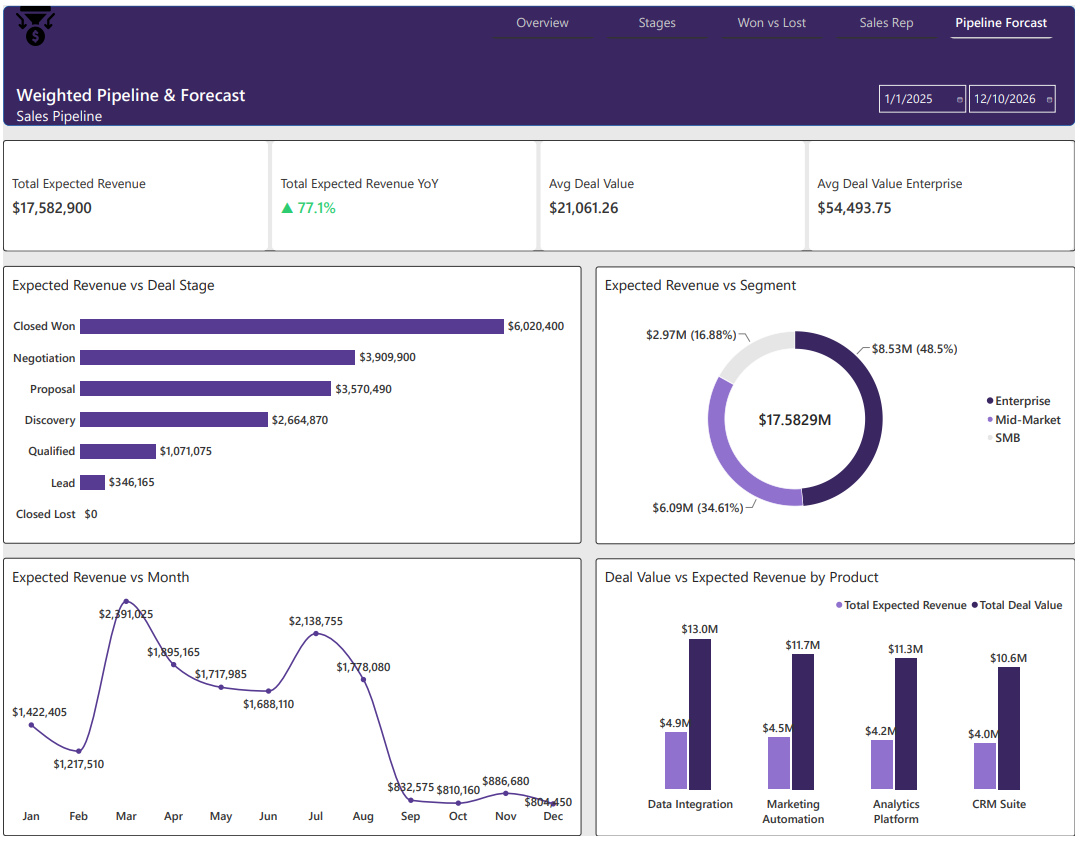

The page's visual inventory and layout, read from the dashboard file:
{"tool":"powerbi","page":{"name":"Pipeline Forcast","canvas":[2000,1550],"ordinal":4},"visuals":[{"type":"shape","box":[0,0,2000.5,223.6],"z":0},{"type":"image","box":[0,2.5,120.4,71.3],"z":1000},{"type":"textbox","box":[24.6,142.5,464.5,81.1],"z":2000},{"type":"pageNavigator","box":[904.4,0,1064.2,61.4],"z":3000},{"type":"cardVisual","fields":{"Data":["Measure.Total Expected Revenue","Measure.Total Expected Revenue YoY","Measure.Avg Deal Value","Measure.Avg Deal Value Enterprise"]},"box":[0,251.5,2000.5,206.4],"z":4000},{"type":"lineChart","title":"Expected Revenue vs Month","fields":{"Category":["Calendar Table.Month_Short"],"Y":["Measure.Total Expected Revenue"]},"box":[0,1031.4,1078.9,518.6],"z":9000},{"type":"donutChart","title":"Expected Revenue vs Segment","fields":{"Category":["Sales_Pipeline.Customer_Segment"],"Y":["Measure.Total Expected Revenue"]},"box":[1105.9,486.6,894.6,518.6],"z":10000},{"type":"barChart","title":"Expected Revenue vs Deal Stage","fields":{"Category":["Sales_Pipeline.Deal_Stage"],"Y":["Measure.Total Expected Revenue"]},"box":[0,485.8,1078.9,518.6],"z":12000},{"type":"slicer","fields":{"Values":["Calendar Table.Date"]},"box":[1627,142.5,341.6,61.4],"z":13000},{"type":"clusteredColumnChart","title":"Deal Value vs Expected Revenue by Product","fields":{"Category":["Sales_Pipeline.Product"],"Y":["Measure.Total Expected Revenue","Measure.Total Deal Value"]},"box":[1105.9,1032.2,894.6,518.6],"z":13001}]}

Visuals, with their boxes in screenshot pixels (x1, y1, x2, y2), scaled from the page's 2000x1550 canvas onto the 1083x845 screenshot:
shape: x1=0, y1=0, x2=1082, y2=122
image: x1=0, y1=1, x2=65, y2=40
textbox: x1=13, y1=78, x2=265, y2=122
pageNavigator: x1=490, y1=0, x2=1066, y2=33
cardVisual - Measure.Total Expected Revenue x Measure.Total Expected Revenue YoY: x1=0, y1=137, x2=1082, y2=250
"Expected Revenue vs Month" lineChart: x1=0, y1=562, x2=584, y2=844
"Expected Revenue vs Segment" donutChart: x1=599, y1=265, x2=1082, y2=548
"Expected Revenue vs Deal Stage" barChart: x1=0, y1=265, x2=584, y2=548
slicer - Calendar Table.Date: x1=881, y1=78, x2=1066, y2=111
"Deal Value vs Expected Revenue by Product" clusteredColumnChart: x1=599, y1=563, x2=1082, y2=844
